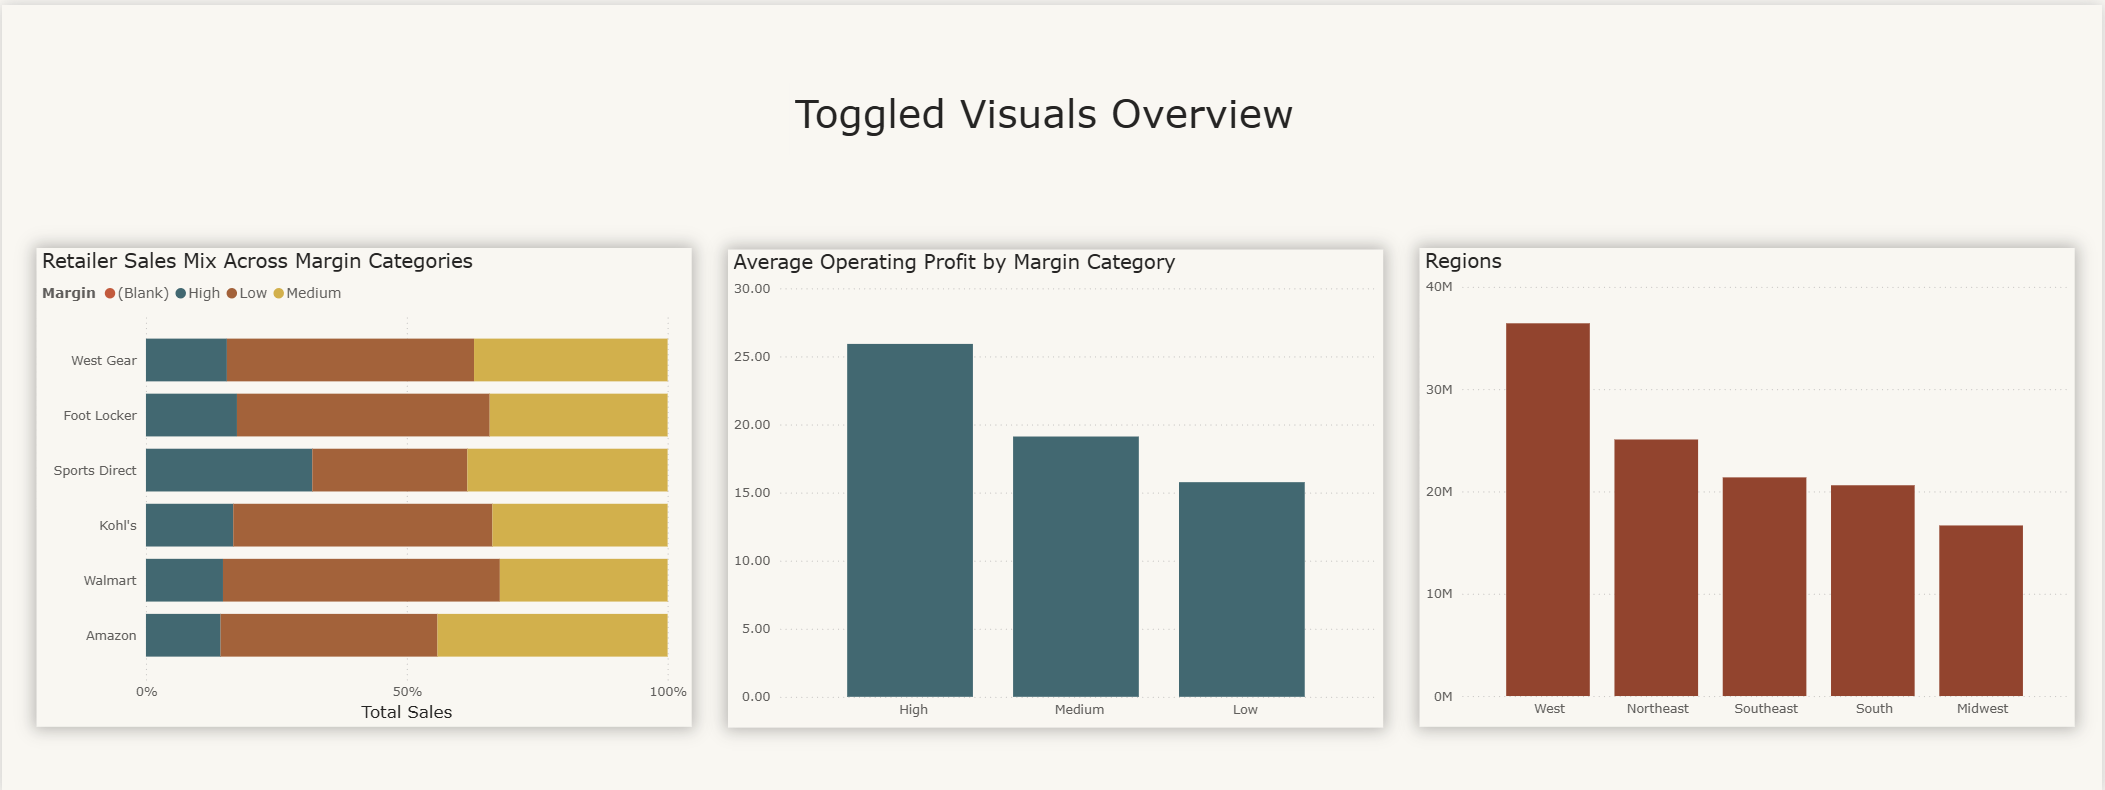

The page's visual inventory and layout, read from the dashboard file:
{"tool":"powerbi","page":{"name":"Page 2","canvas":[2000,750],"ordinal":1},"visuals":[{"type":"hundredPercentStackedBarChart","title":"Retailer Sales Mix Across Margin Categories","fields":{"Y":["mydb fact_sales.Total Sales"],"Series":["mydb dim_operatingmargin.Margin_Category"],"Category":["mydb dim_retailer.Retailer_Name"]},"box":[32.9,231.4,624.3,455.7],"z":0},{"type":"columnChart","title":"Regions","fields":{"Category":["mydb dim_region.Region"],"Y":["Sum(mydb fact_sales.Total_sales)"]},"box":[1350,231.4,624,455.7],"z":0,"group":"g2"},{"type":"clusteredColumnChart","title":"Average Operating Profit by Margin Category","fields":{"Y":["mydb fact_sales.Avg Operating Profit (Weighted)"],"Category":["mydb dim_operatingmargin.Margin_Category"]},"box":[691.1,233,624.3,455],"z":0,"group":"g1"},{"type":"group","id":"g1","title":"Cost group","box":[691.1,233,624.3,455],"z":1000},{"type":"group","id":"g2","title":"Location group","box":[1350,231.4,622.9,455.7],"z":2000},{"type":"textbox","box":[750,74.3,498.6,68.6],"z":3000}]}

Visuals, with their boxes in screenshot pixels (x1, y1, x2, y2), scaled from the page's 2000x750 canvas onto the 2105x790 screenshot:
"Retailer Sales Mix Across Margin Categories" hundredPercentStackedBarChart: crop(35, 244, 692, 724)
"Regions" columnChart: crop(1421, 244, 2078, 724)
"Average Operating Profit by Margin Category" clusteredColumnChart: crop(727, 245, 1384, 725)
"Cost group" group: crop(727, 245, 1384, 725)
"Location group" group: crop(1421, 244, 2076, 724)
textbox: crop(789, 78, 1314, 151)
